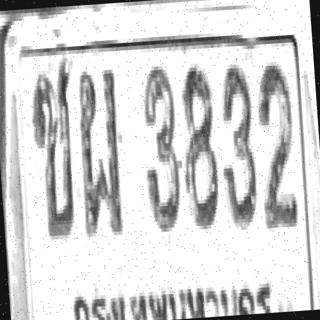A10: (28, 56, 81, 238)
A28: (74, 66, 125, 237)
N02: (253, 61, 298, 228)
N03: (138, 62, 185, 233), (215, 60, 259, 227)
N08: (177, 62, 220, 230)
